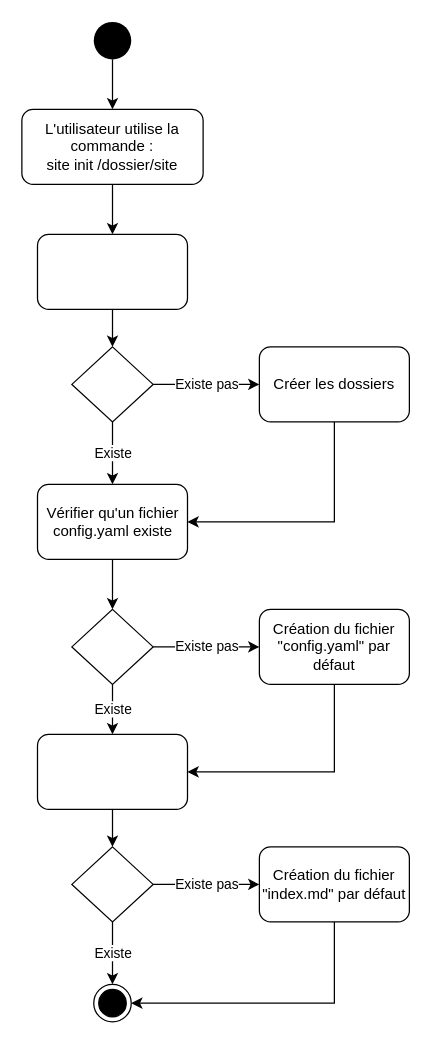
The diagram is 431 pixels wide and 1044 high, and some of its shapes have lost their labels. Each missing label, with the box of its shape:
Vérifier qu'un fichier index.md existe: (36, 733, 188, 809)
Vérifier que l'arborescence du dossier existe: (36, 233, 188, 309)
